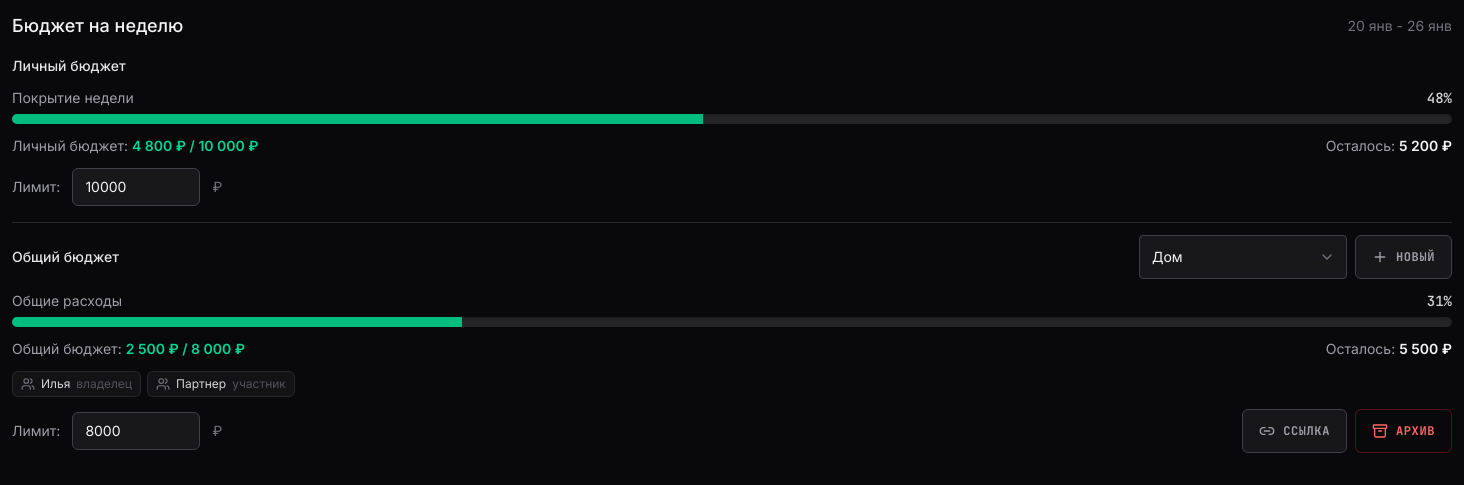
Test case: WeeklyBudget › shared budgets › rejects a negative shared weekly limit edit with an inline error
Step 1. Replace the text in the field showing "8000" below "Илья" with "-5" → (136, 431), box [72,412,200,450]
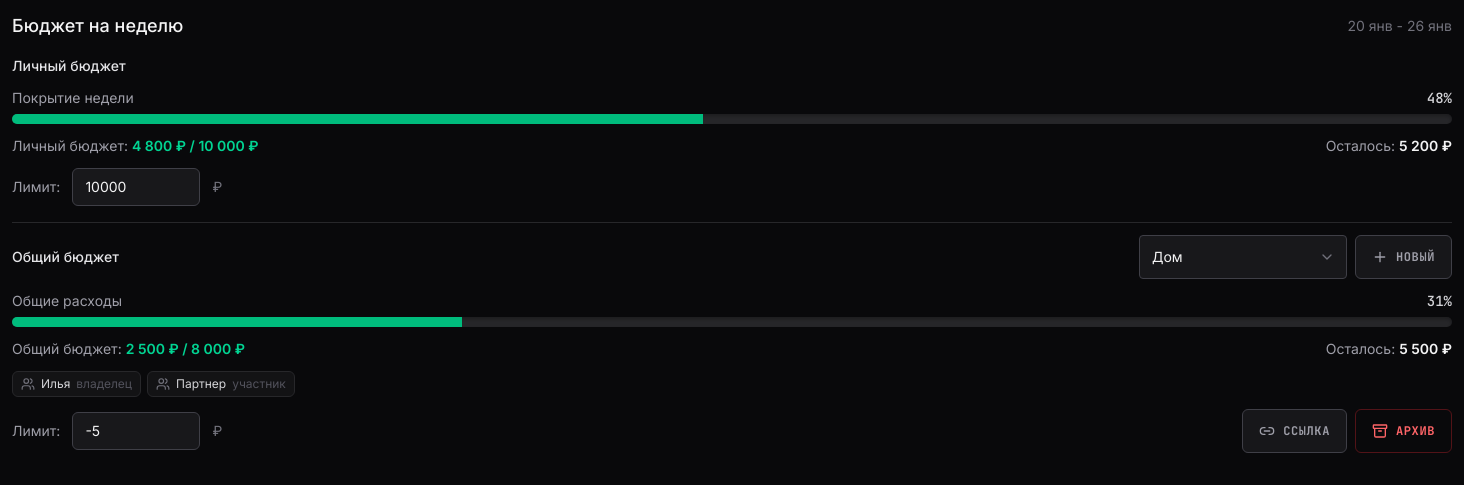
Step 2. Leave the field showing "8000" below "Илья", box [72,412,200,450]
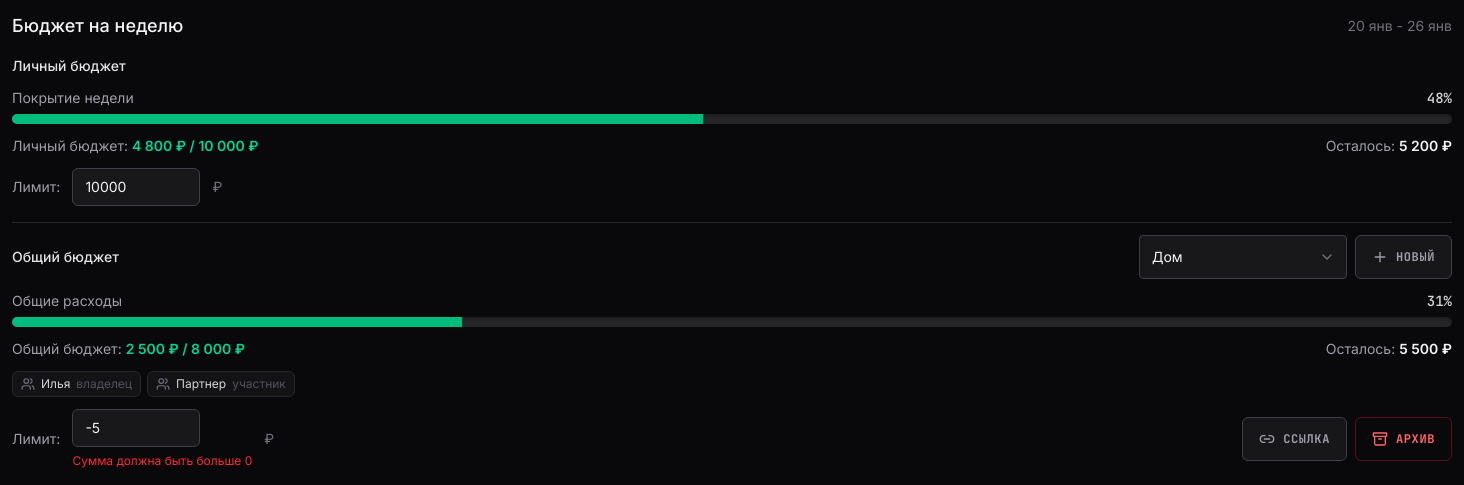
Expected: the message reads "Сумма должна быть больше 0", [72,453,252,468]
